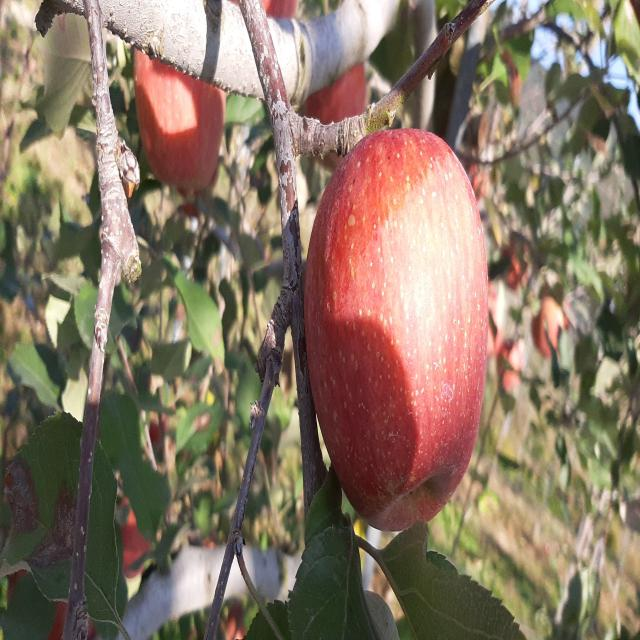fresh: (298, 119, 496, 545)
